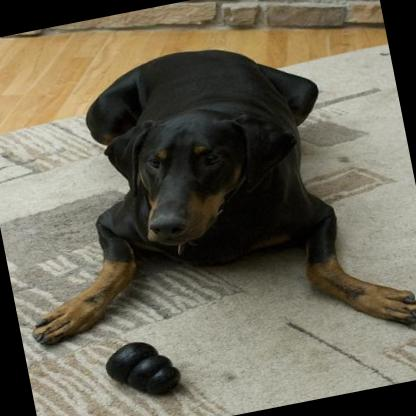Doberman: (0, 13, 416, 397)
